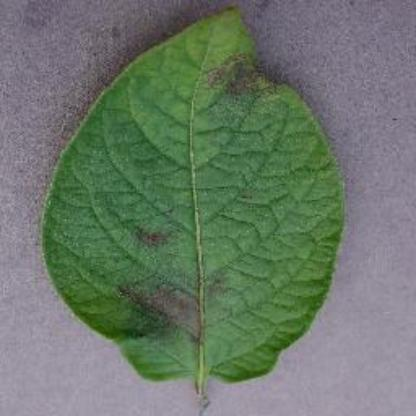Late-Blight: (32, 9, 406, 380)
